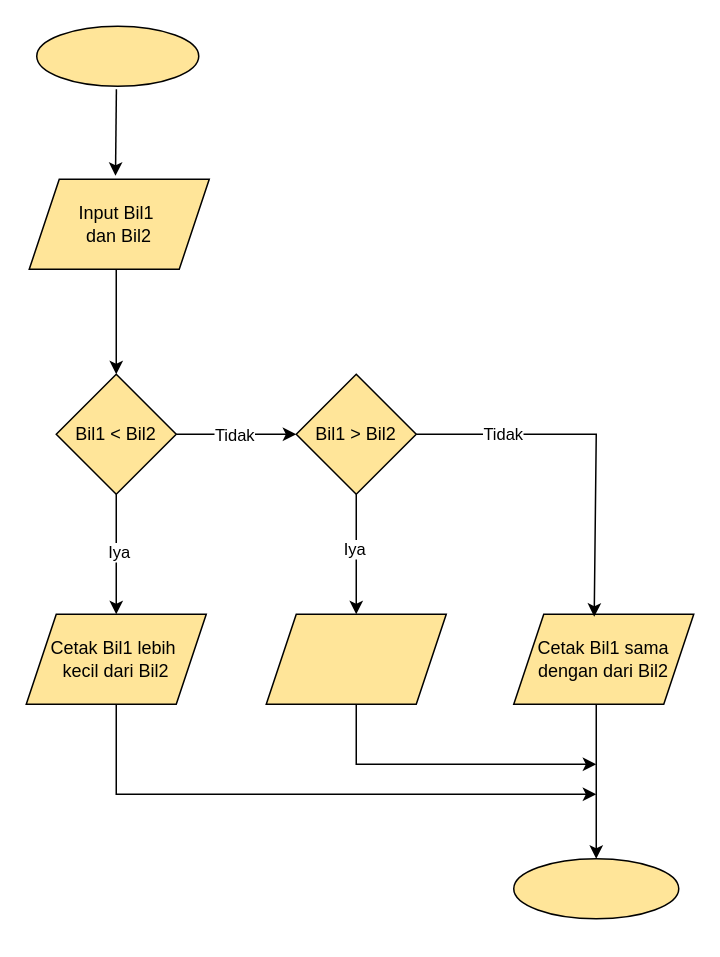
This 720x957 diagram has some shape labels left out. The box of each missing label's shape, as (x1, y1, x2, y2) in pixels:
Cetak Bil1 lebih besar dari Bil2: (265, 613, 446, 704)
End: (512, 857, 679, 919)
Start: (35, 25, 199, 86)
